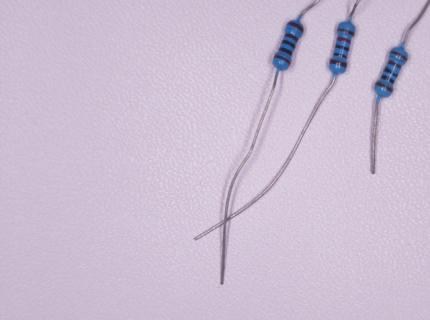Black band: (384, 67, 399, 78), (278, 47, 293, 57), (380, 75, 395, 84), (281, 40, 295, 49)
Brown band: (287, 21, 304, 33), (390, 51, 408, 62), (375, 82, 393, 93), (274, 55, 290, 65), (387, 59, 402, 69), (284, 33, 299, 42)
